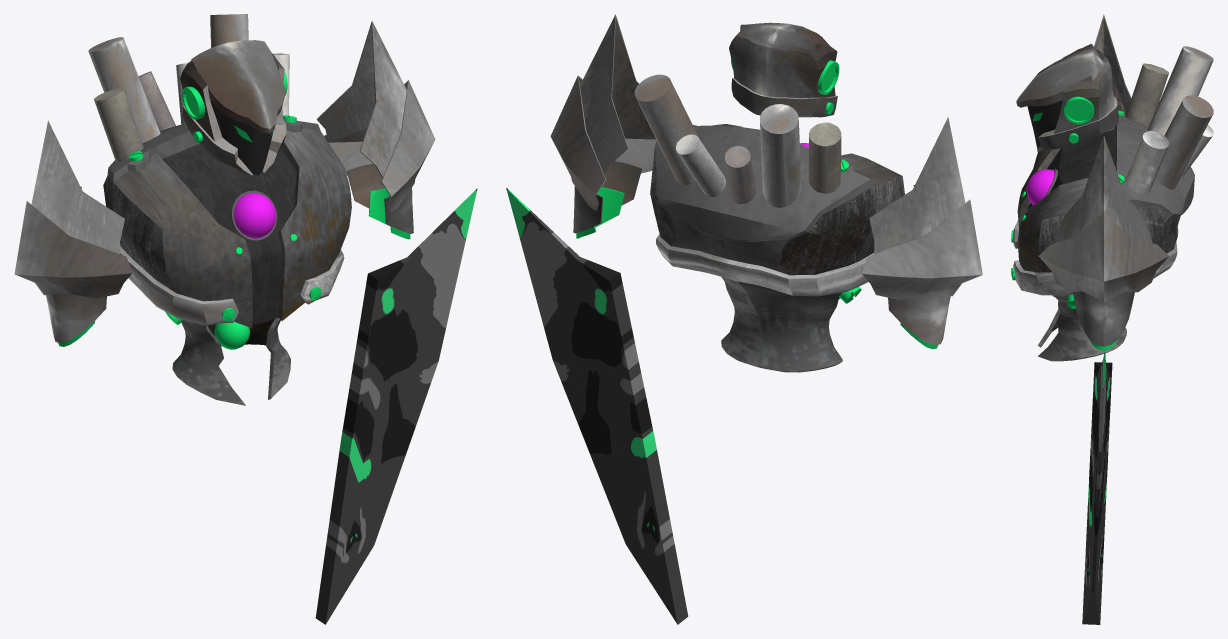
The model's file is inperiusu.fbx.
3 views of the same model, side by side, from view 1: azimuth 30°, elevation 25°; view 2: azimuth 150°, elevation 25°; view 3: azimuth 270°, elevation 25° (orthographic). The views are drawn at different scales.
Visible parts, largest first — view 1: polySurface7, atest:bladeblade_locator, polySurface2, polySurface6, polySurface21, polySurface12, polySurface19, polySurface4, polySurface1, polySurface26, polySurface24, polySurface5 (+6 smaller); view 2: atest:bladeblade_locator, polySurface7, polySurface19, polySurface2, polySurface4, polySurface6, polySurface12, polySurface1, polySurface26, polySurface22, polySurface5, polySurface24 (+5 smaller); view 3: polySurface7, polySurface1, atest:bladeblade_locator, polySurface4, polySurface6, polySurface22, polySurface21, polySurface26, polySurface19, polySurface29, polySurface18, polySurface24 (+4 smaller).
Part boxes in pixels (x1,y1,x2,y2): polySurface7: (103, 119, 351, 328); atest:bladeblade_locator: (315, 188, 477, 624); polySurface2: (14, 201, 132, 298); polySurface6: (316, 21, 406, 177); polySurface21: (191, 40, 285, 133); polySurface12: (31, 120, 124, 253); polySurface19: (172, 317, 290, 405); polySurface4: (180, 53, 286, 175); polySurface1: (324, 80, 435, 212); polySurface26: (88, 37, 160, 142); polySurface24: (94, 88, 143, 161); polySurface5: (46, 293, 106, 342); atest:bladeblade_locator: (506, 187, 688, 624); polySurface7: (650, 124, 904, 296); polySurface19: (721, 277, 842, 372); polySurface2: (861, 199, 982, 299); polySurface4: (729, 31, 837, 117); polySurface6: (580, 14, 655, 175); polySurface12: (869, 117, 965, 254); polySurface1: (550, 75, 656, 211); polySurface26: (760, 104, 801, 207); polySurface22: (634, 74, 699, 184); polySurface5: (888, 294, 950, 345); polySurface24: (808, 122, 841, 193); polySurface7: (1013, 114, 1194, 295); polySurface1: (1038, 212, 1168, 301); atest:bladeblade_locator: (1082, 353, 1112, 624); polySurface4: (1027, 49, 1118, 151); polySurface6: (1055, 136, 1152, 242); polySurface22: (1154, 95, 1213, 189); polySurface21: (1016, 43, 1103, 107); polySurface26: (1148, 46, 1213, 135); polySurface19: (1038, 295, 1126, 361); polySurface29: (1072, 291, 1134, 346); polySurface18: (1125, 131, 1168, 194); polySurface24: (1125, 63, 1168, 126).
Size of the model in its own units: 153 by 190 by 65.67.
2 materials, 2 textured.
